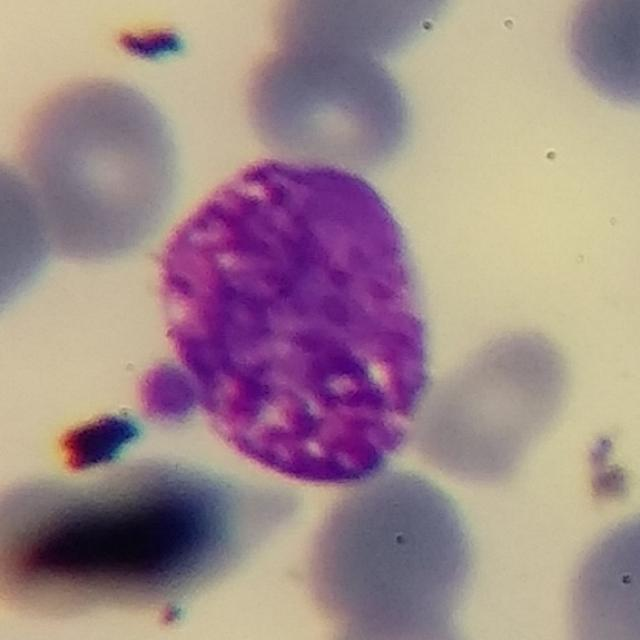Basophil: (144, 144, 444, 491)
Platelets: (130, 354, 204, 435)
RBC: (4, 68, 186, 266), (294, 463, 484, 639), (405, 320, 580, 488), (235, 24, 421, 172), (553, 505, 640, 640), (277, 0, 470, 56), (0, 150, 57, 330), (553, 0, 640, 117), (320, 594, 484, 640), (130, 354, 207, 435)
